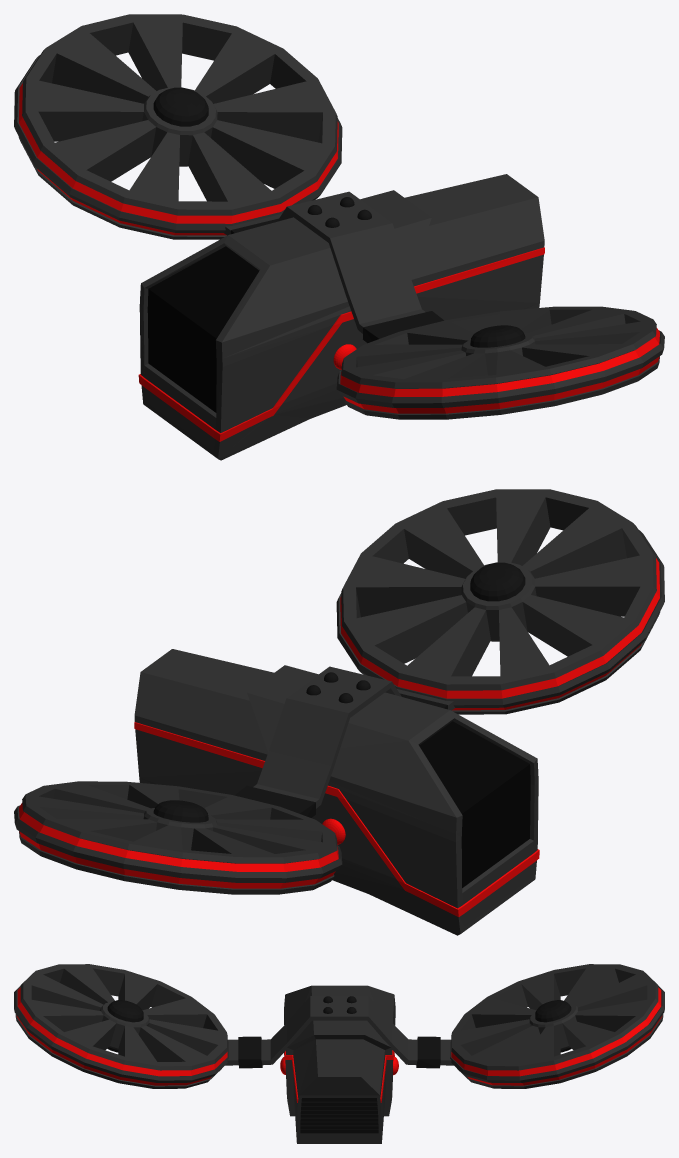
File: drone.fbx
The picture shows the model from 3 angles, top to bottom: view 1: azimuth 30°, elevation 25°; view 2: azimuth 150°, elevation 25°; view 3: azimuth 270°, elevation 25°; orthographic projection. The views are drawn at different scales.
Parts seen in each view (by area): view 1: drone; view 2: drone; view 3: drone.
Boxes of the visible parts, box(x1,y1,x2,y2) form: drone: box(14, 14, 664, 460); drone: box(14, 489, 664, 935); drone: box(14, 964, 664, 1143).
Size of the model in its own units: 78.62 by 44.7 by 191.
